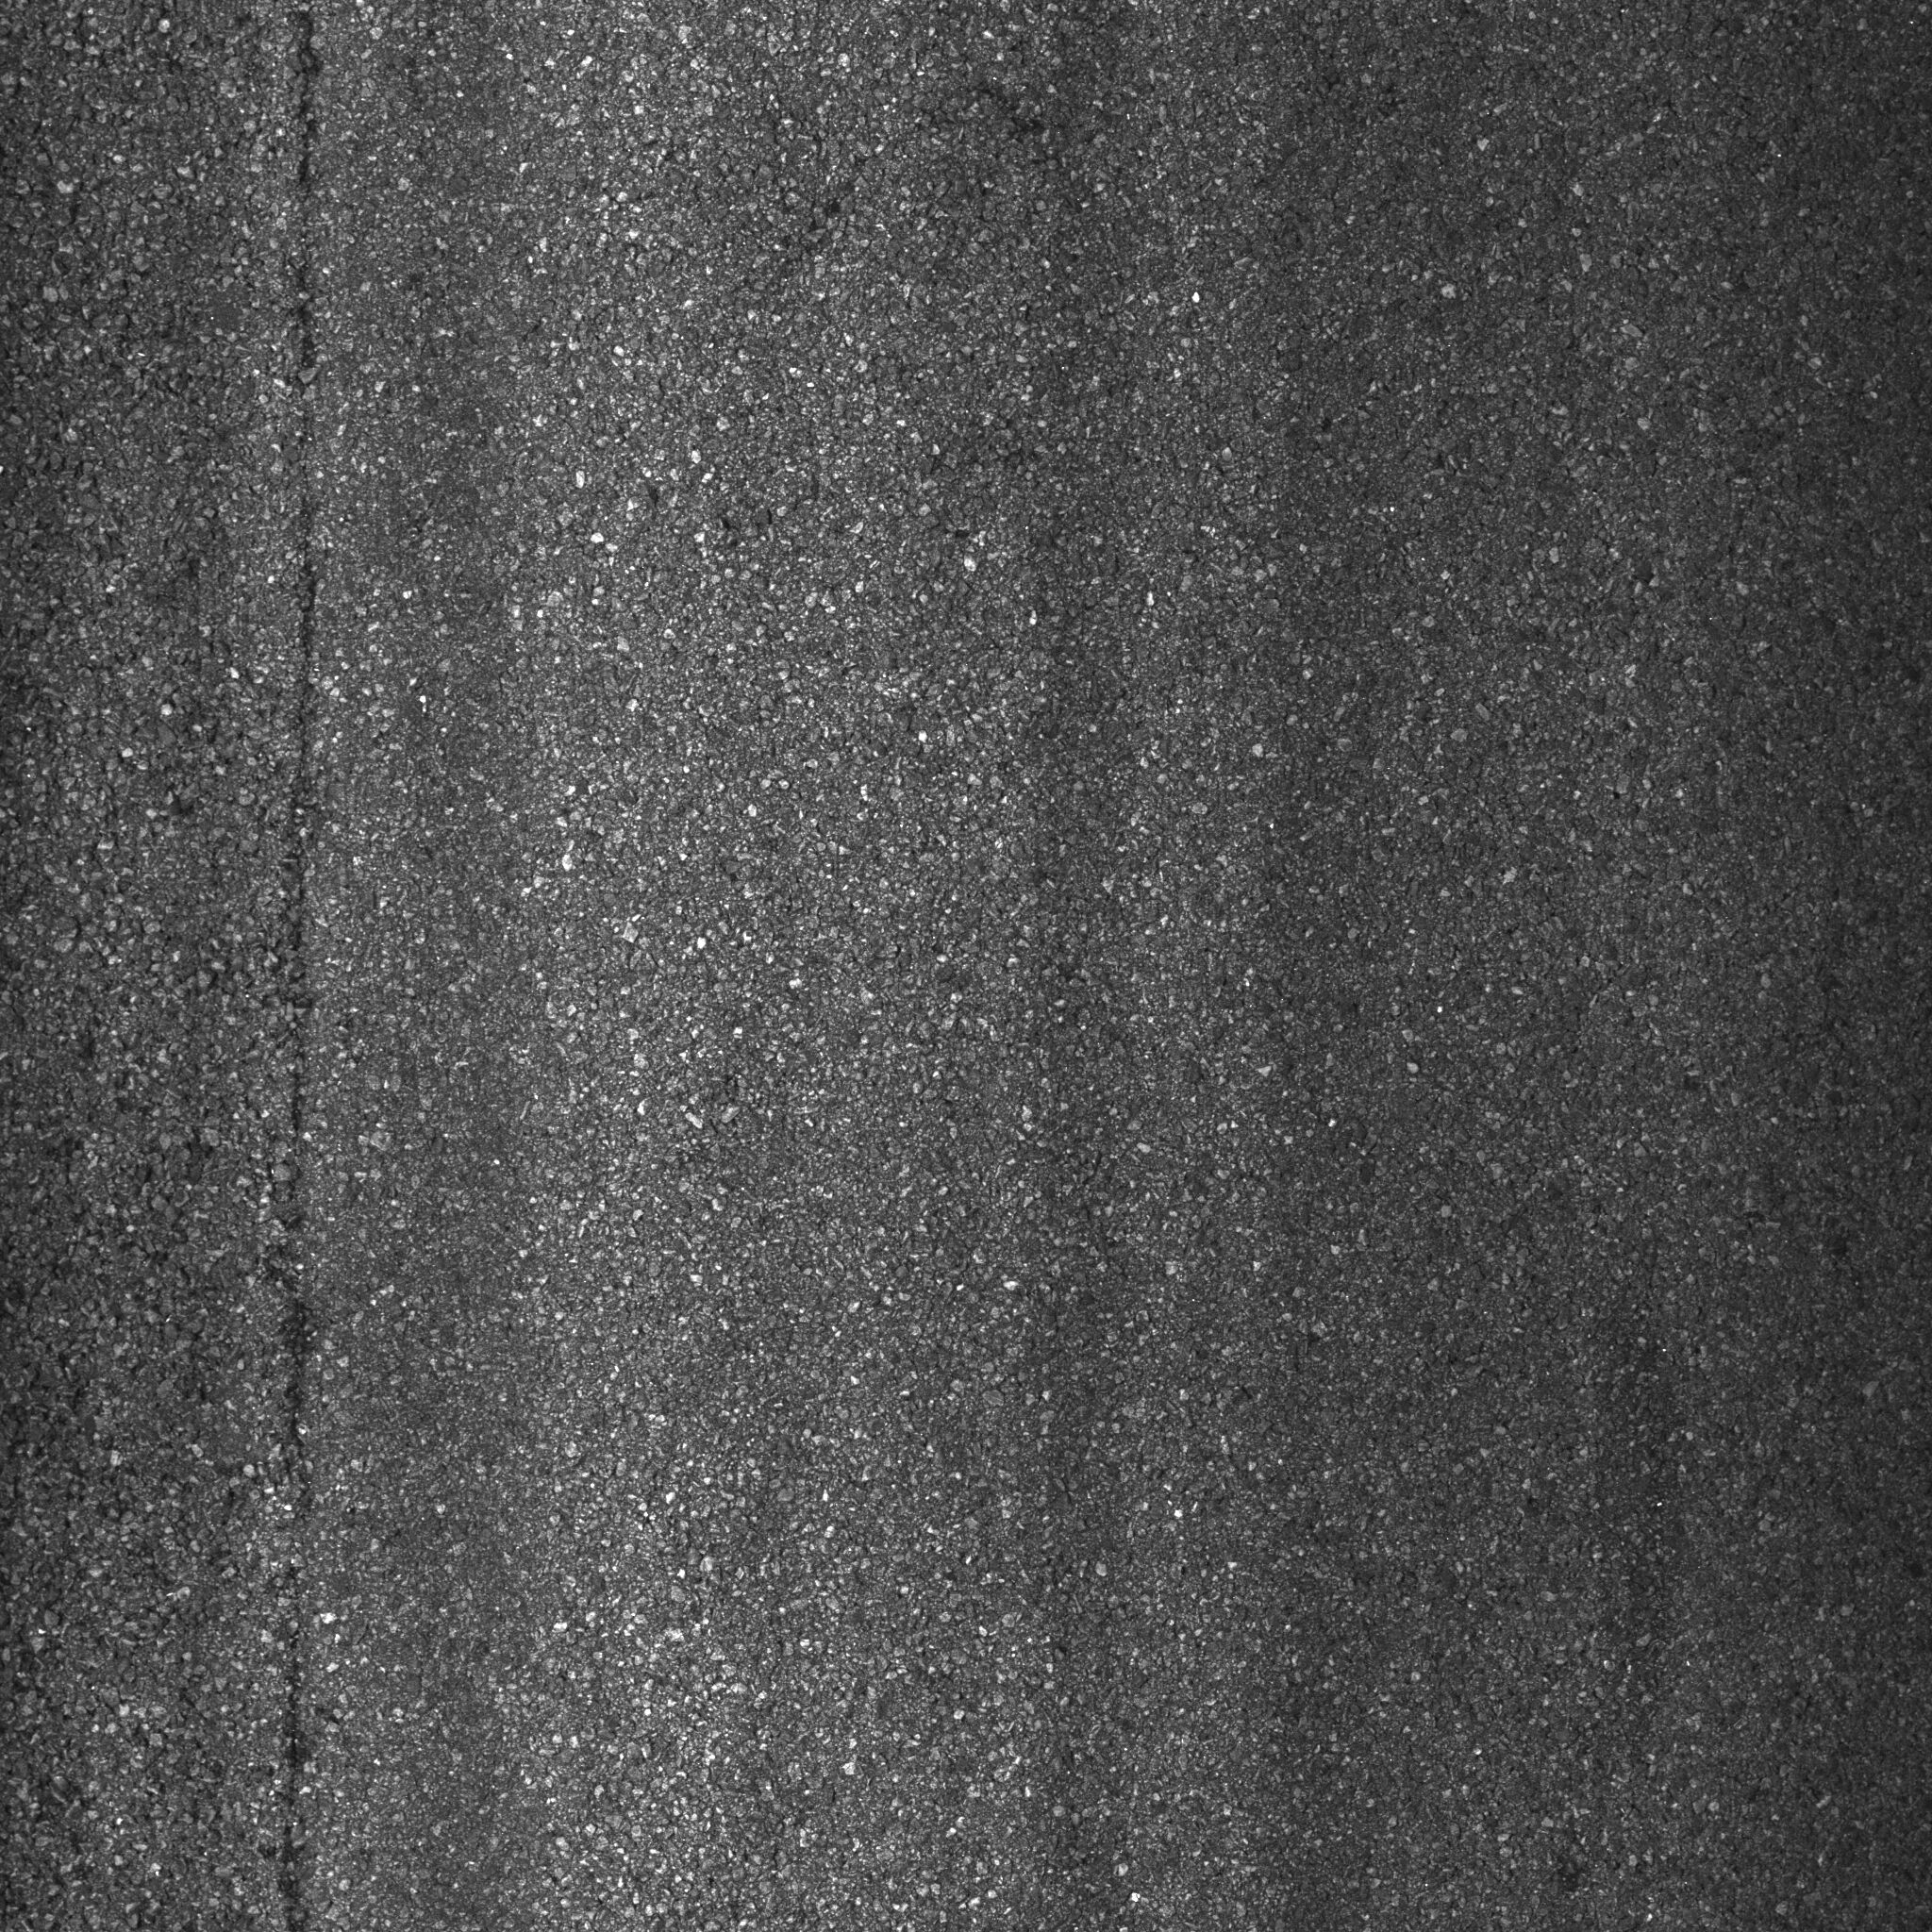longitudinal: (260, 5, 343, 1925)
